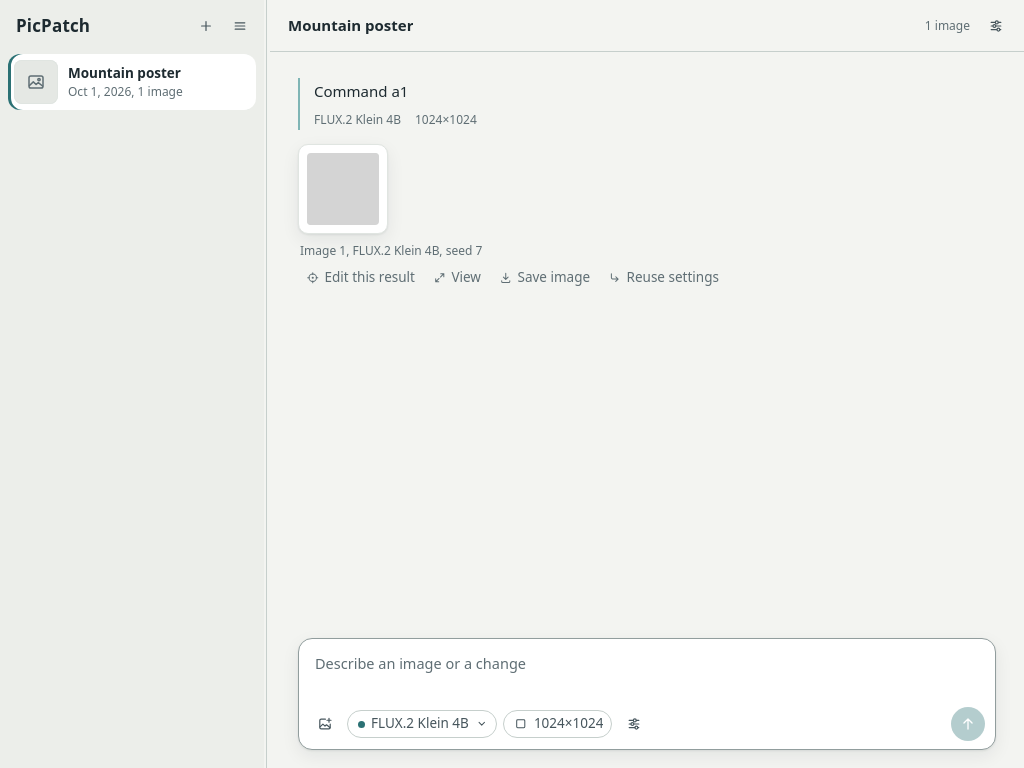
Test case: keeps a refused command and its inputs in the composer
Expected: the text box named "Command" is shown, [309,649,985,701]
Click the button "Edit this result".
click(360, 277)  # box [298,263,423,291]
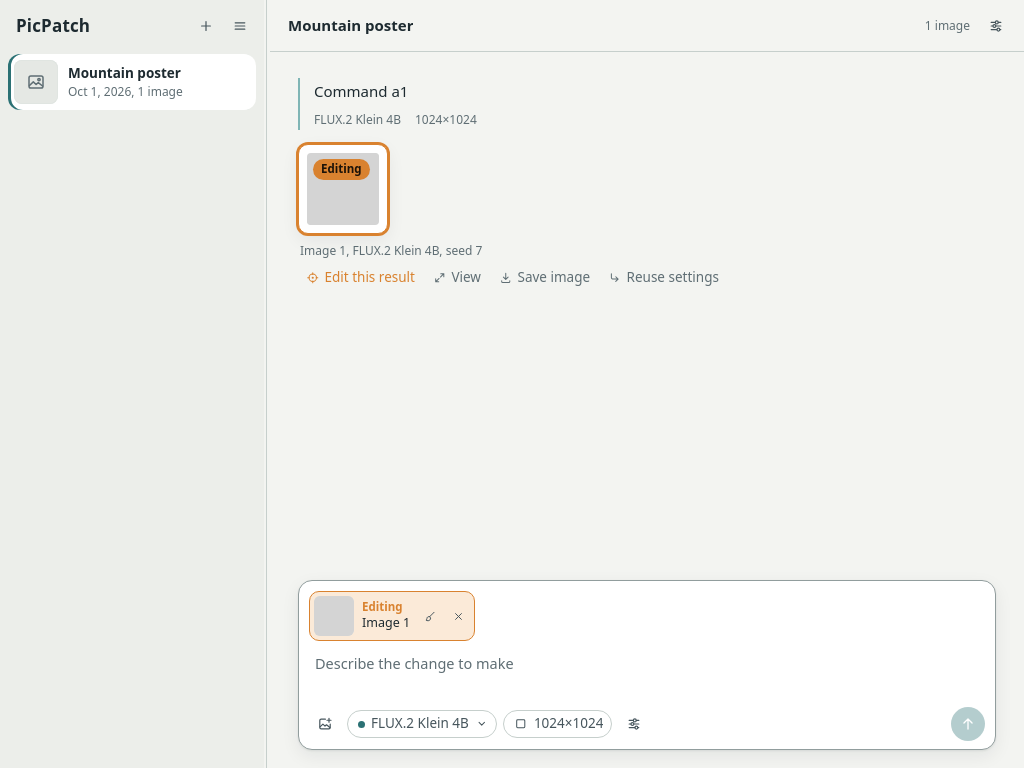
Type "Make it night" into the text box named "Command".
click(647, 675); type("Make it night")  # box [309,649,985,701]
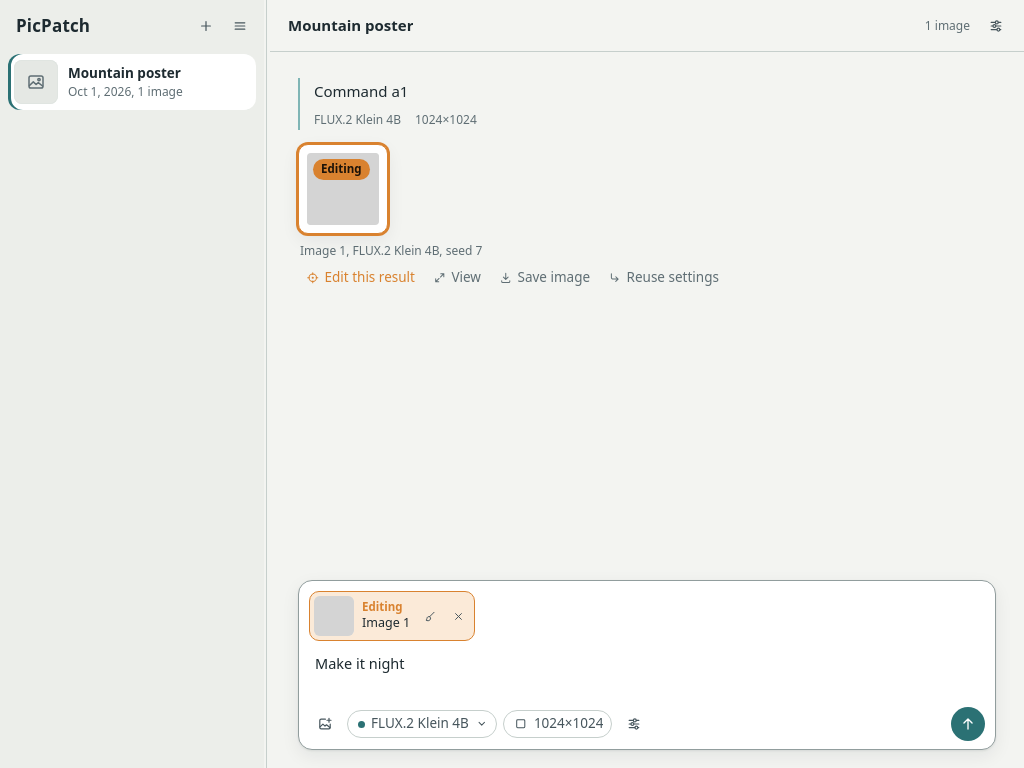
Click the button named "Run command".
click(968, 724)  # box [951,707,985,741]
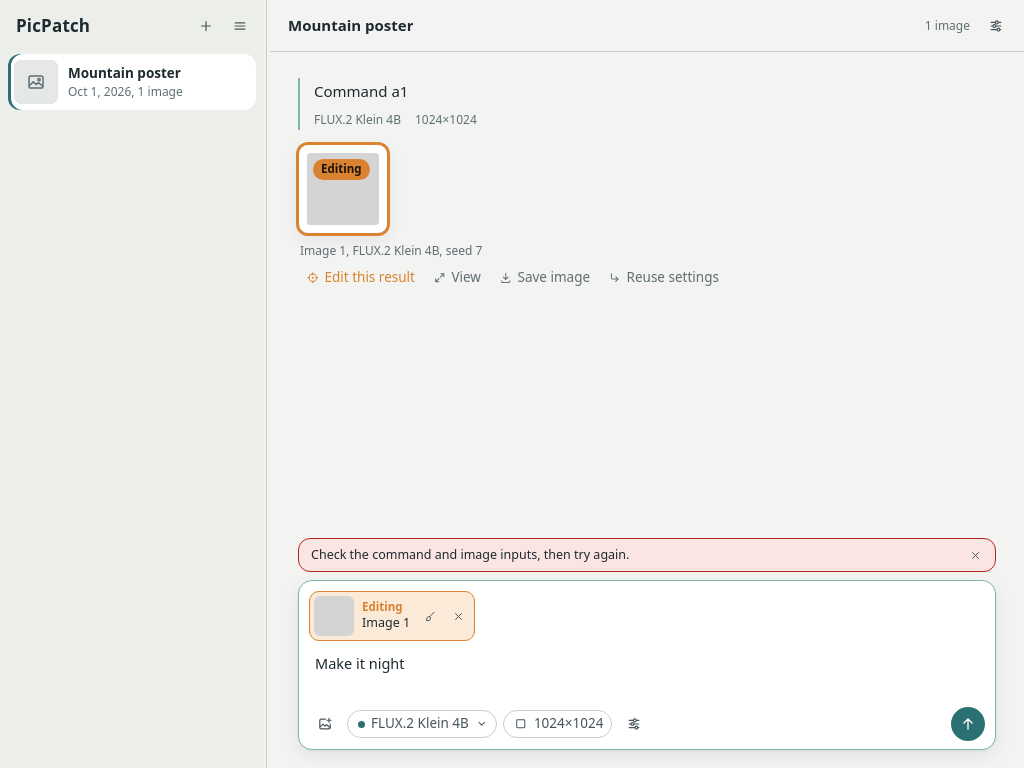
Now the message "Check the command and image inputs, then try again." is shown, box [298,538,996,572]
